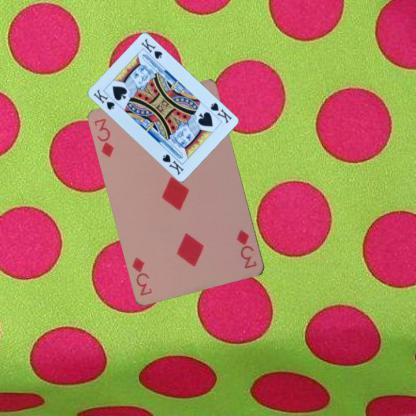3d: (234, 227, 258, 270), (92, 115, 115, 159)
Ks: (207, 100, 233, 125), (90, 87, 116, 111)
